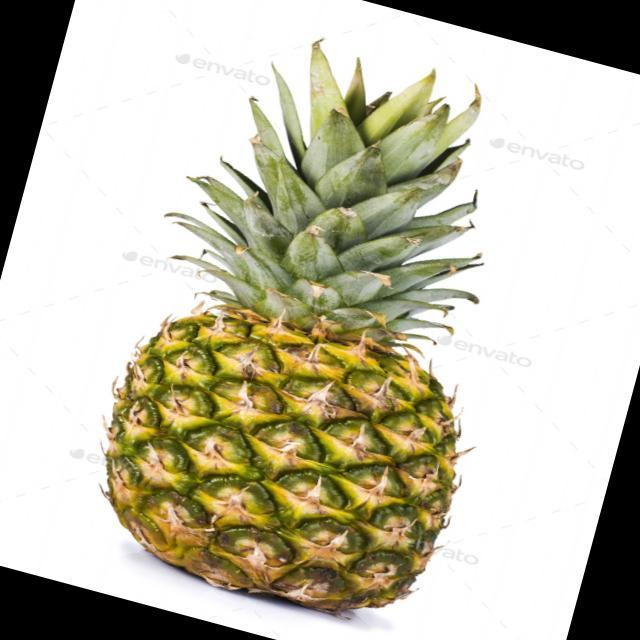PINEAPLE: (74, 27, 562, 640)
